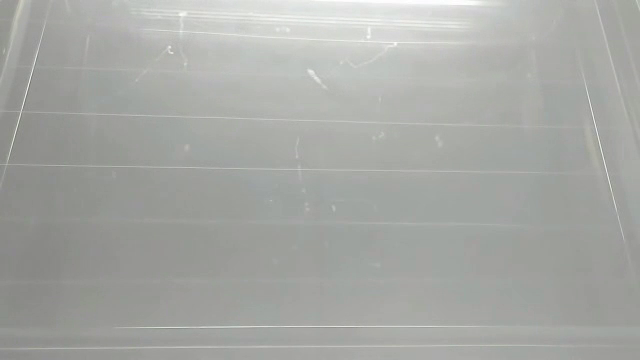alpha: (305, 65, 330, 94)
